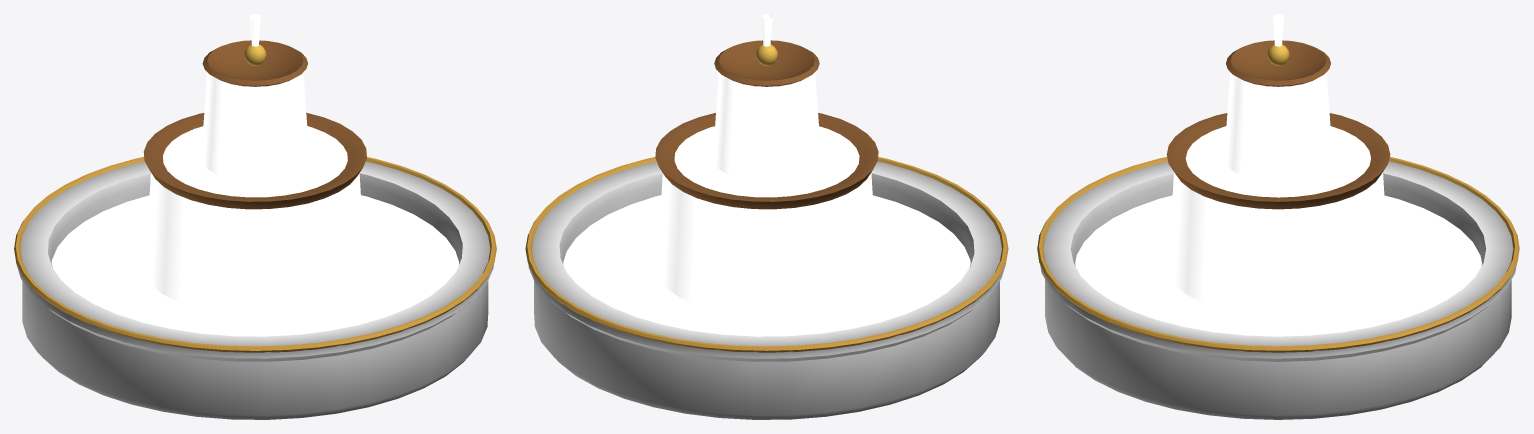
The model's file is fountain.glb.
3 views of the same model, side by side, from view 1: azimuth 30°, elevation 25°; view 2: azimuth 150°, elevation 25°; view 3: azimuth 270°, elevation 25° (orthographic).
Parts seen in each view (by area): view 1: fountain_lod0; view 2: fountain_lod0; view 3: fountain_lod0.
Part boxes in pixels (x1,y1,x2,y2): fountain_lod0: (14,14,496,419); fountain_lod0: (525,14,1008,419); fountain_lod0: (1037,14,1519,419).
Size of what is drawn, in the model's own units: 3.02 by 2.12 by 3.02.
